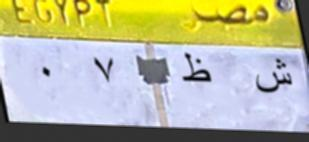0: (38, 60, 55, 83)
7: (90, 52, 116, 88)
Thaa: (178, 51, 218, 91)
sheen: (252, 56, 296, 99)
